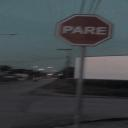Pare: (52, 12, 116, 48)
